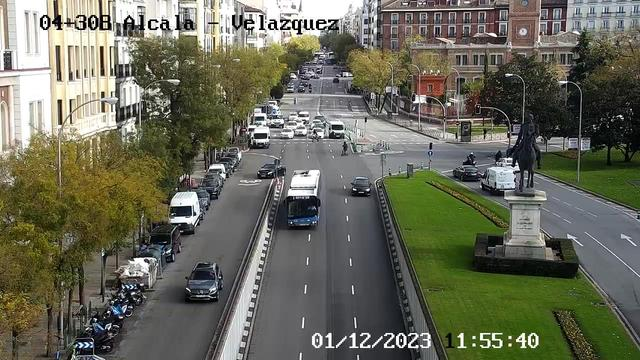bus: (283, 170, 321, 228)
car: (185, 261, 224, 302), (149, 225, 181, 262), (453, 165, 481, 182), (351, 176, 372, 197), (200, 179, 221, 200), (257, 163, 286, 178), (192, 190, 210, 211), (205, 172, 224, 188)
motorcycle: (71, 331, 113, 355)
truck: (168, 192, 200, 235), (481, 167, 516, 194), (252, 126, 270, 149), (208, 164, 227, 181), (329, 121, 346, 139)
